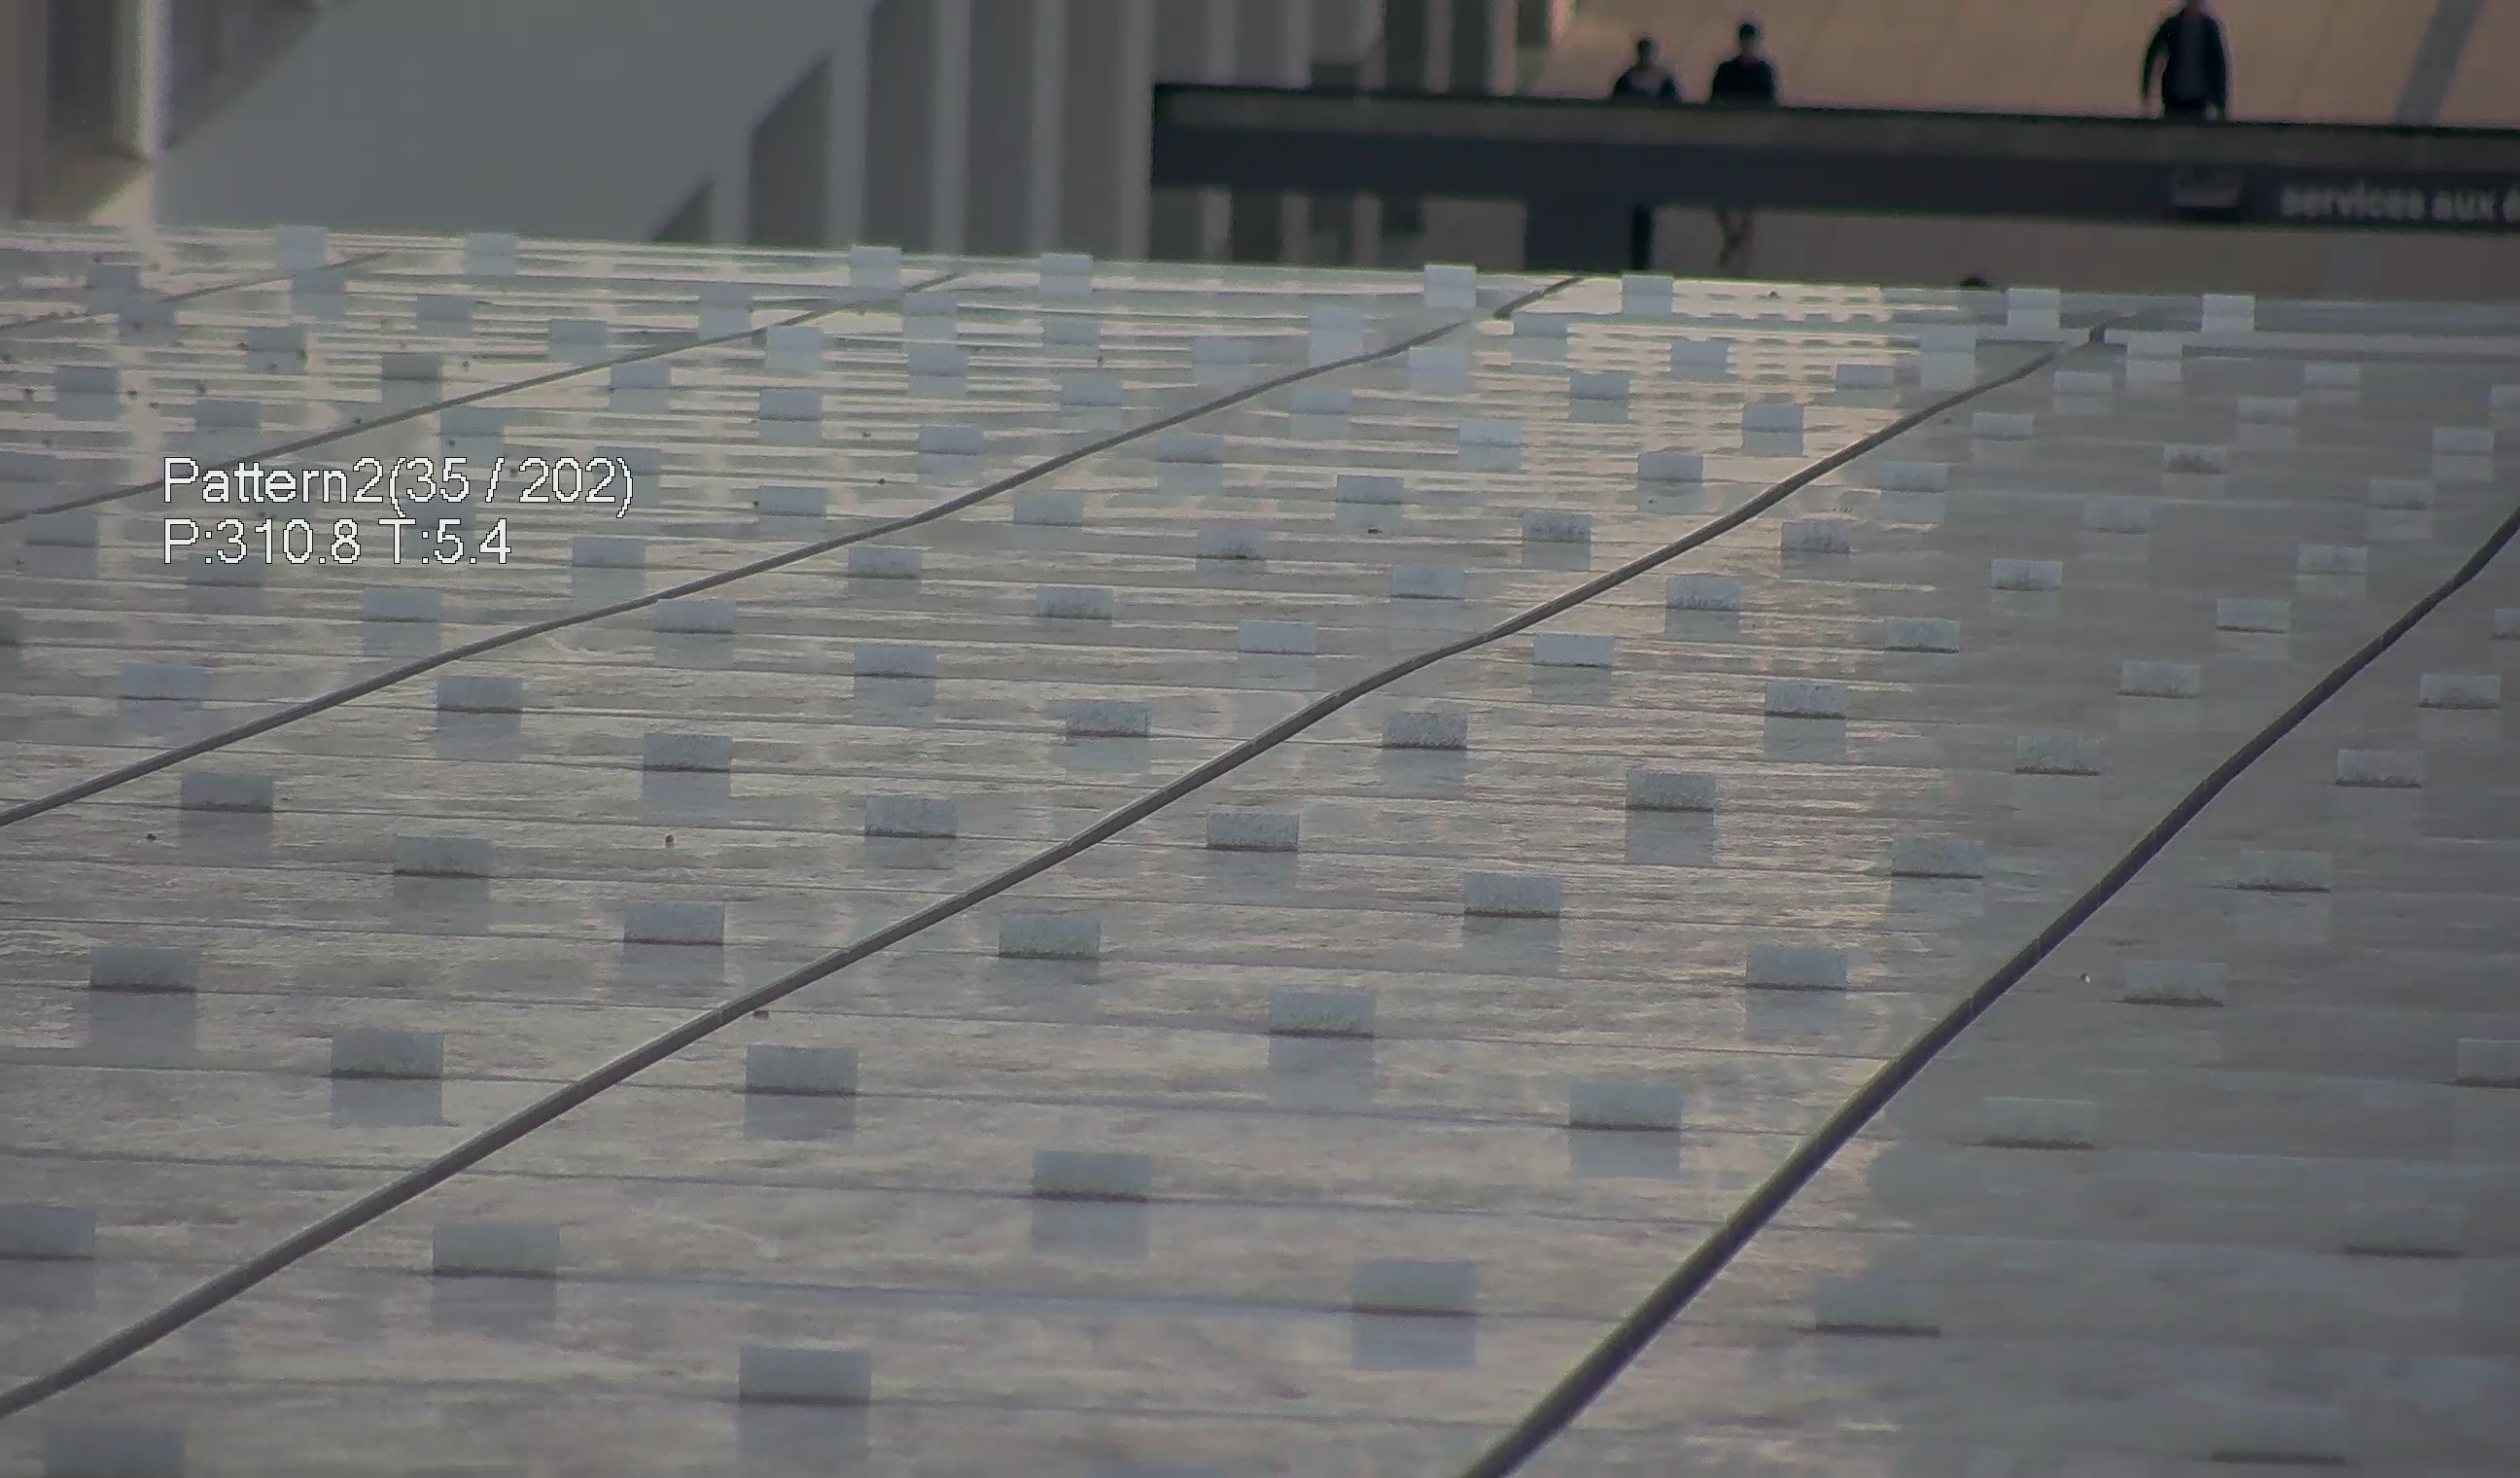Other: (2145, 0, 2249, 134)
